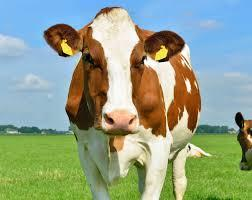cow: (43, 5, 212, 200), (236, 111, 252, 171), (185, 144, 214, 159)
